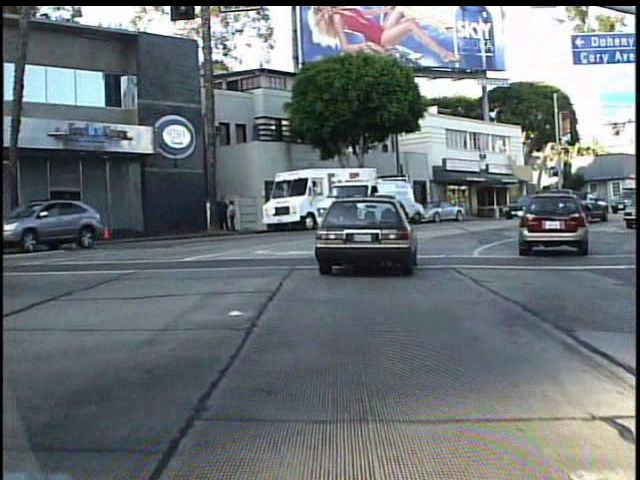person: (216, 194, 232, 234), (227, 199, 242, 235)
